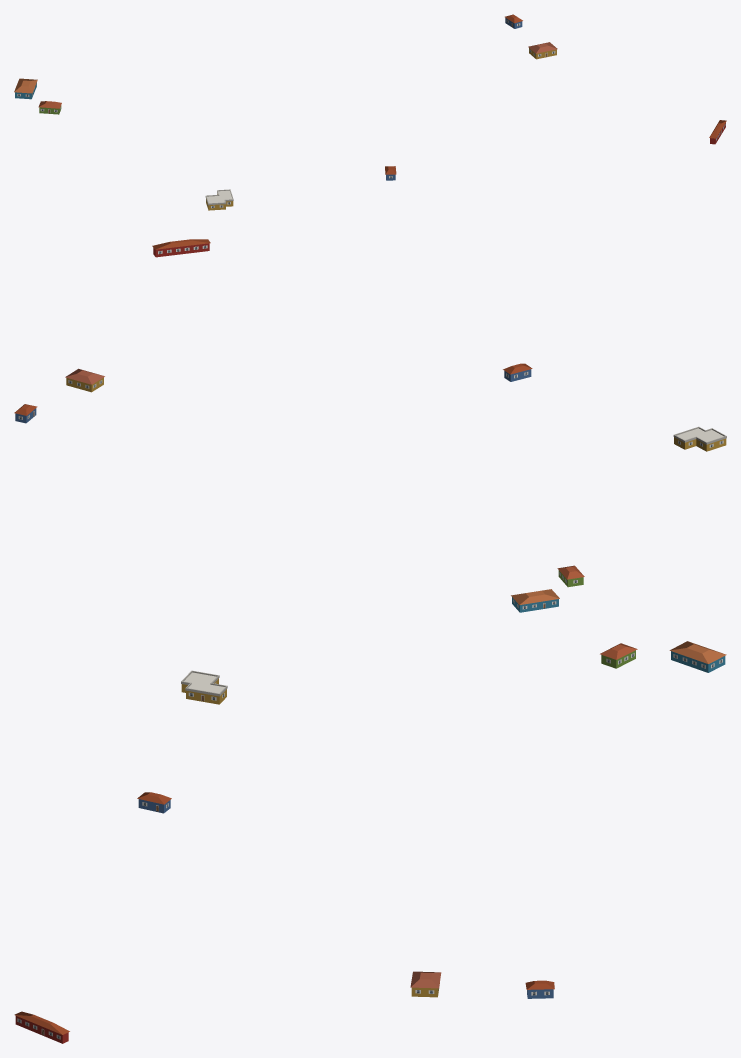
The model's file is msb_oranjestad_m20_m2.glb.
3 views of the same model, one above another, from view 1: azimuth 30°, elevation 25°; view 2: azimuth 150°, elevation 25°; view 3: azimuth 270°, elevation 25° (orthographic). The views are drawn at different scales.
Parts seen in each view (by area): view 1: msb_oranjestad_m20_m2_lod0; view 2: msb_oranjestad_m20_m2_lod0; view 3: msb_oranjestad_m20_m2_lod0.
Part boxes in pixels (box(x1,y1,x2,y2)): msb_oranjestad_m20_m2_lod0: box(14, 14, 726, 210); msb_oranjestad_m20_m2_lod0: box(14, 239, 726, 612); msb_oranjestad_m20_m2_lod0: box(14, 641, 726, 1043).
Size of what is drawn, in the model's own units: 303 by 7.92 by 237.
3 materials, 1 textured.
